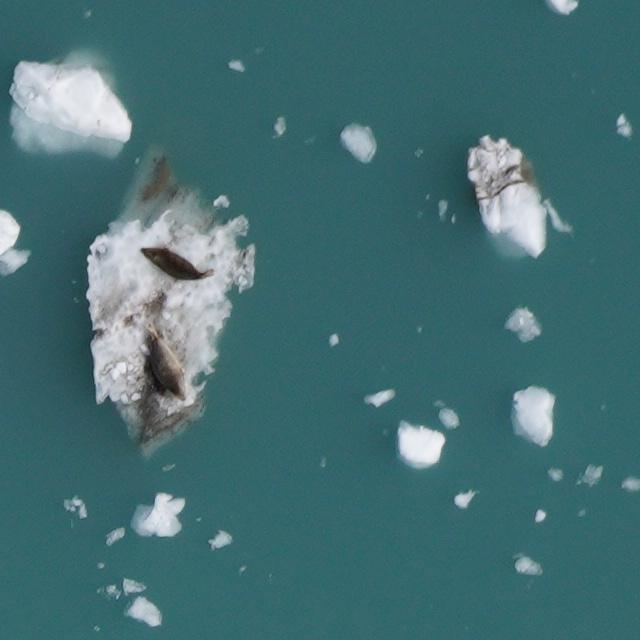seal: (121, 315, 202, 410), (130, 235, 217, 294)
